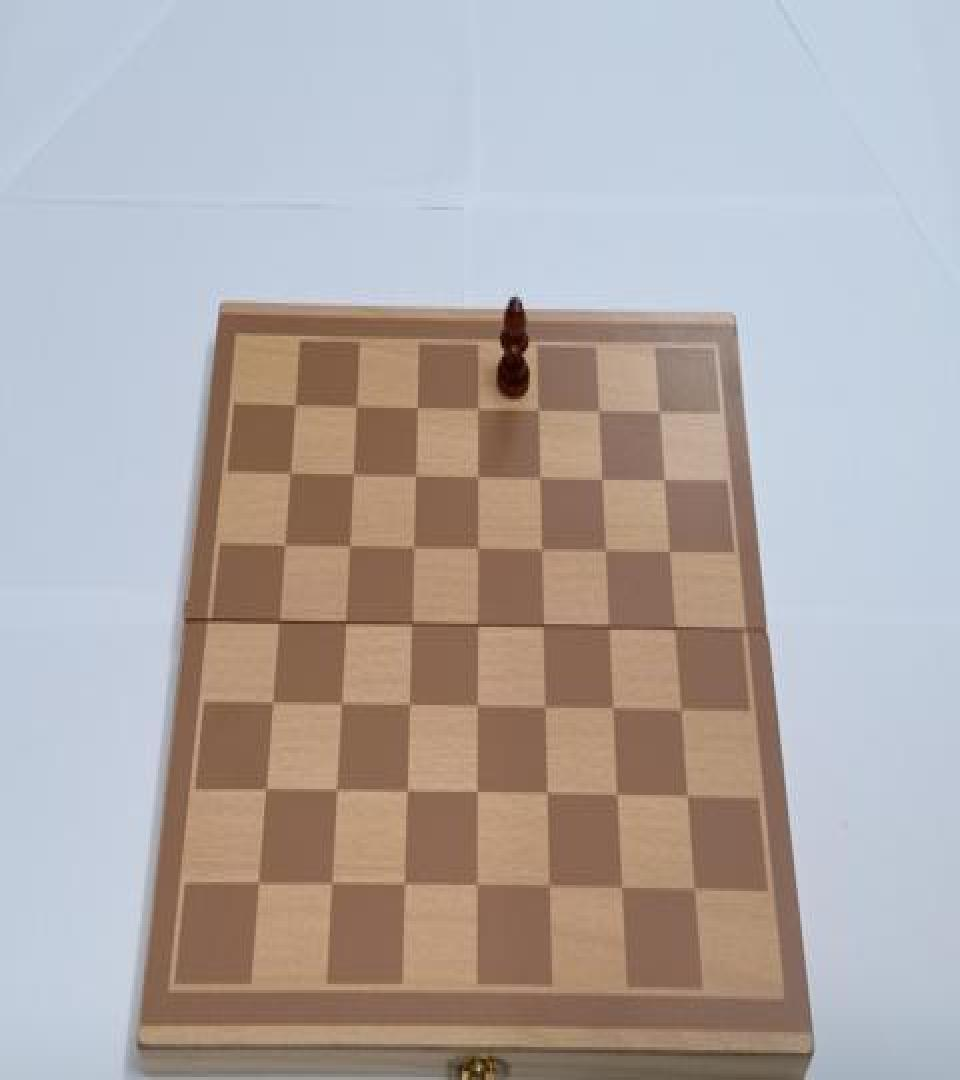xcorner: (282, 460, 300, 488), (409, 394, 427, 422), (468, 694, 486, 722), (536, 694, 554, 722), (593, 466, 611, 494), (655, 466, 673, 494), (287, 393, 305, 420), (276, 532, 294, 559), (270, 609, 288, 636), (264, 690, 282, 717), (257, 777, 275, 804), (250, 870, 268, 897), (348, 393, 366, 420), (344, 462, 362, 489), (340, 534, 358, 561), (336, 610, 354, 637), (327, 778, 345, 805), (323, 870, 341, 897), (402, 612, 420, 639), (400, 693, 418, 720), (398, 780, 416, 807), (469, 396, 487, 423), (468, 612, 486, 639), (468, 780, 486, 807), (468, 873, 486, 900), (530, 397, 548, 424), (531, 465, 549, 492), (533, 537, 551, 564), (540, 873, 558, 900), (590, 397, 608, 424), (597, 538, 615, 565), (600, 615, 618, 642), (604, 696, 622, 723), (608, 783, 626, 810), (613, 874, 631, 901), (650, 399, 668, 426), (661, 540, 679, 567), (666, 617, 684, 644), (678, 783, 696, 810), (685, 876, 703, 903), (332, 692, 350, 718), (407, 464, 425, 490), (405, 536, 423, 562), (395, 872, 413, 898), (469, 464, 487, 490), (469, 536, 487, 562), (534, 614, 552, 640), (538, 782, 556, 808), (672, 698, 690, 724)
